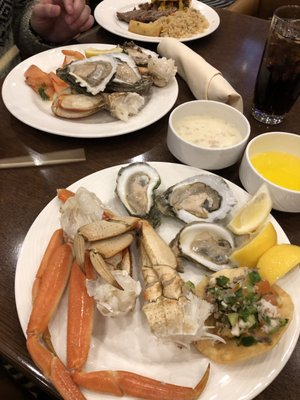sushi: (166, 99, 251, 171), (239, 131, 300, 215)
